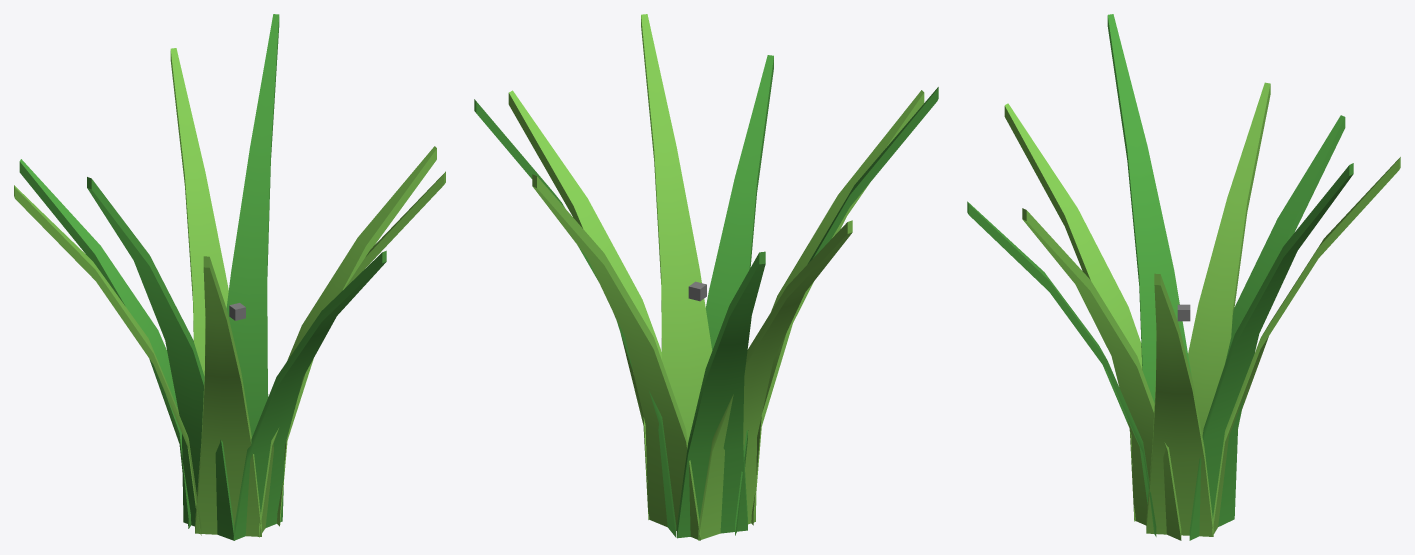
File: GrassTuft.fbx
3 renders of one model, left to right at view 1: azimuth 30°, elevation 25°; view 2: azimuth 150°, elevation 25°; view 3: azimuth 270°, elevation 25°, orthographic. The views are drawn at different scales.
Visible parts, largest first — view 1: GrassTuft_Leaf, GrassTuft_LeafLight; view 2: GrassTuft_LeafLight, GrassTuft_Leaf; view 3: GrassTuft_LeafLight, GrassTuft_Leaf.
Boxes of the visible parts, left/top/right/bottom form: GrassTuft_Leaf: left=19, top=14, right=386, bottom=540; GrassTuft_LeafLight: left=14, top=48, right=445, bottom=537; GrassTuft_LeafLight: left=508, top=14, right=924, bottom=540; GrassTuft_Leaf: left=474, top=55, right=938, bottom=538; GrassTuft_LeafLight: left=1004, top=82, right=1400, bottom=540; GrassTuft_Leaf: left=967, top=14, right=1353, bottom=540.
Size of the model in its own units: 140 by 149 by 140.
